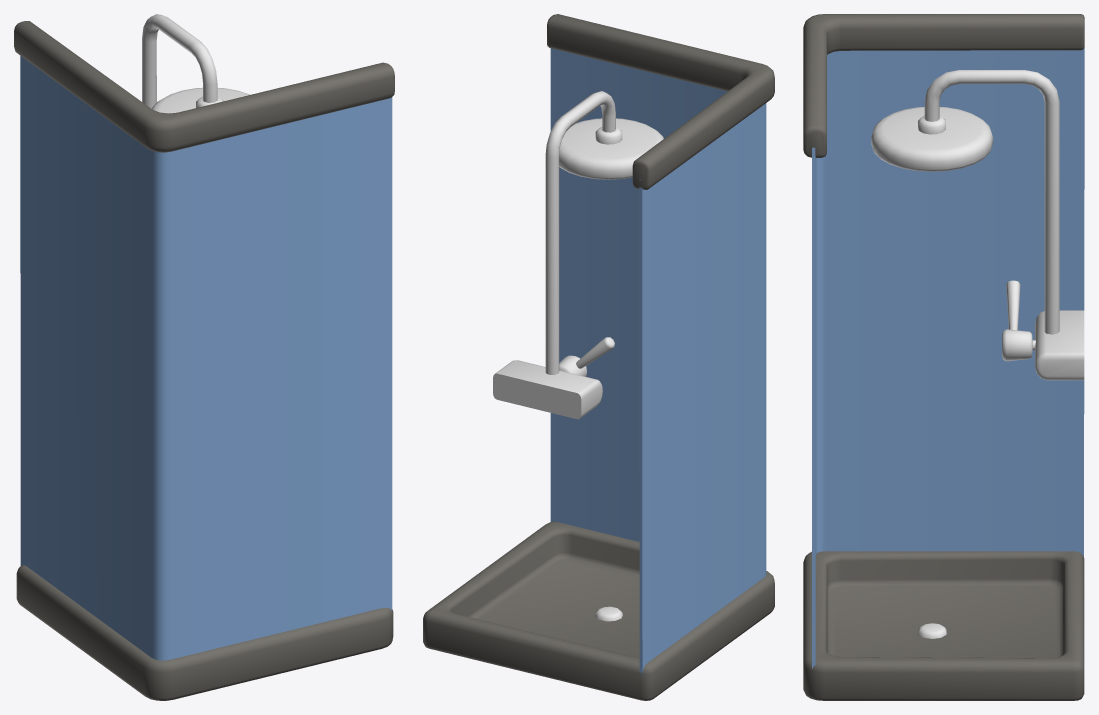
The picture shows the model from 3 angles, left to right: view 1: azimuth 30°, elevation 25°; view 2: azimuth 150°, elevation 25°; view 3: azimuth 270°, elevation 25°; orthographic projection. The views are drawn at different scales.
Visible parts, largest first — view 1: Shower_02; view 2: Shower_02; view 3: Shower_02.
Part boxes in pixels (x1,y1,x2,y2): Shower_02: (14, 14, 394, 700); Shower_02: (423, 14, 774, 700); Shower_02: (803, 14, 1084, 700).
Bounding box in the file's own units: 0.8 × 1.8 × 0.8011.
